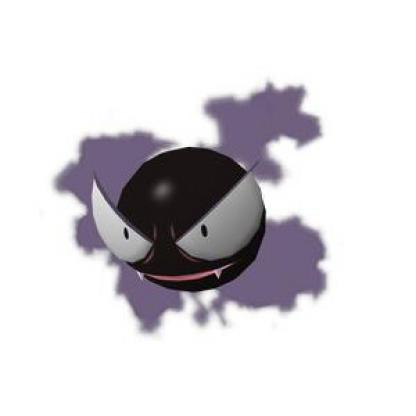Gastly: (37, 65, 359, 338)
